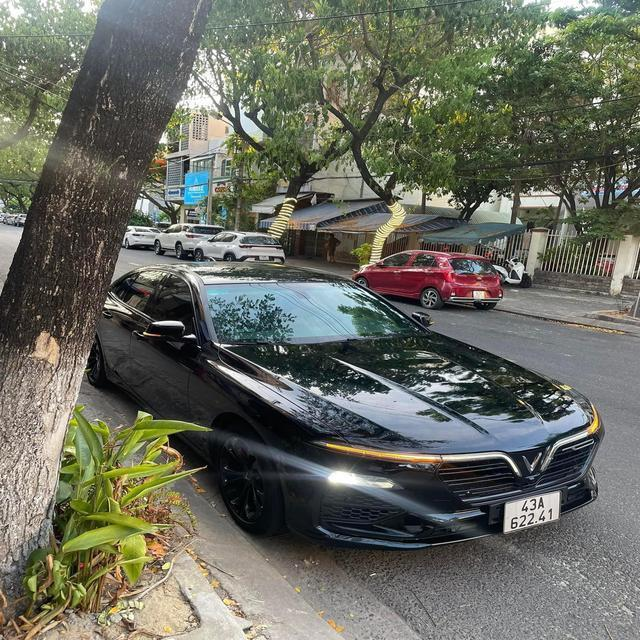car: (99, 245, 603, 560), (346, 236, 518, 317)
plate: (500, 487, 566, 536)
